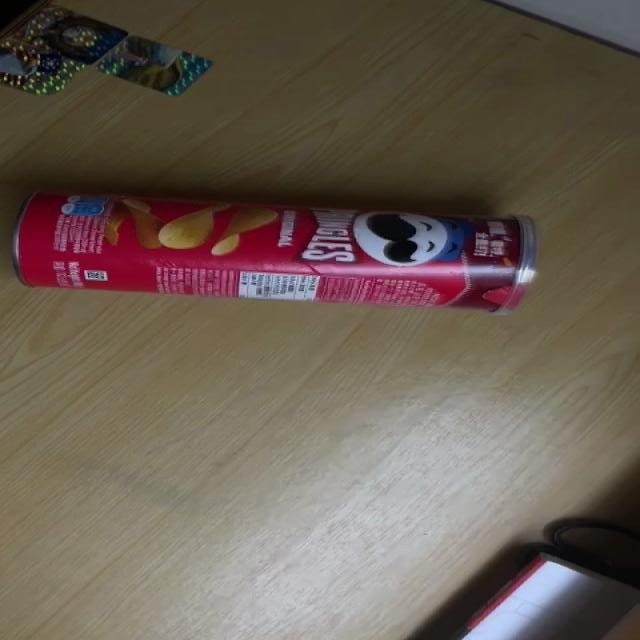Pringles: (8, 189, 536, 315)
